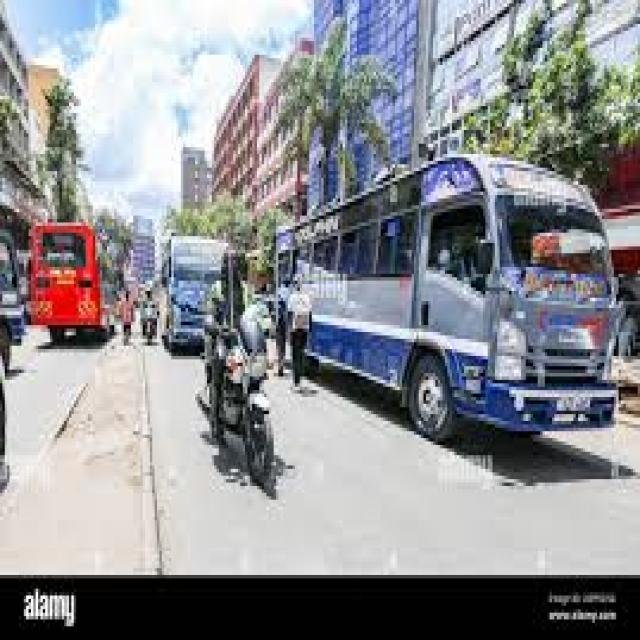bodaboda: (200, 337, 299, 496)
bus: (270, 162, 638, 445), (22, 208, 123, 360), (156, 231, 212, 358)
